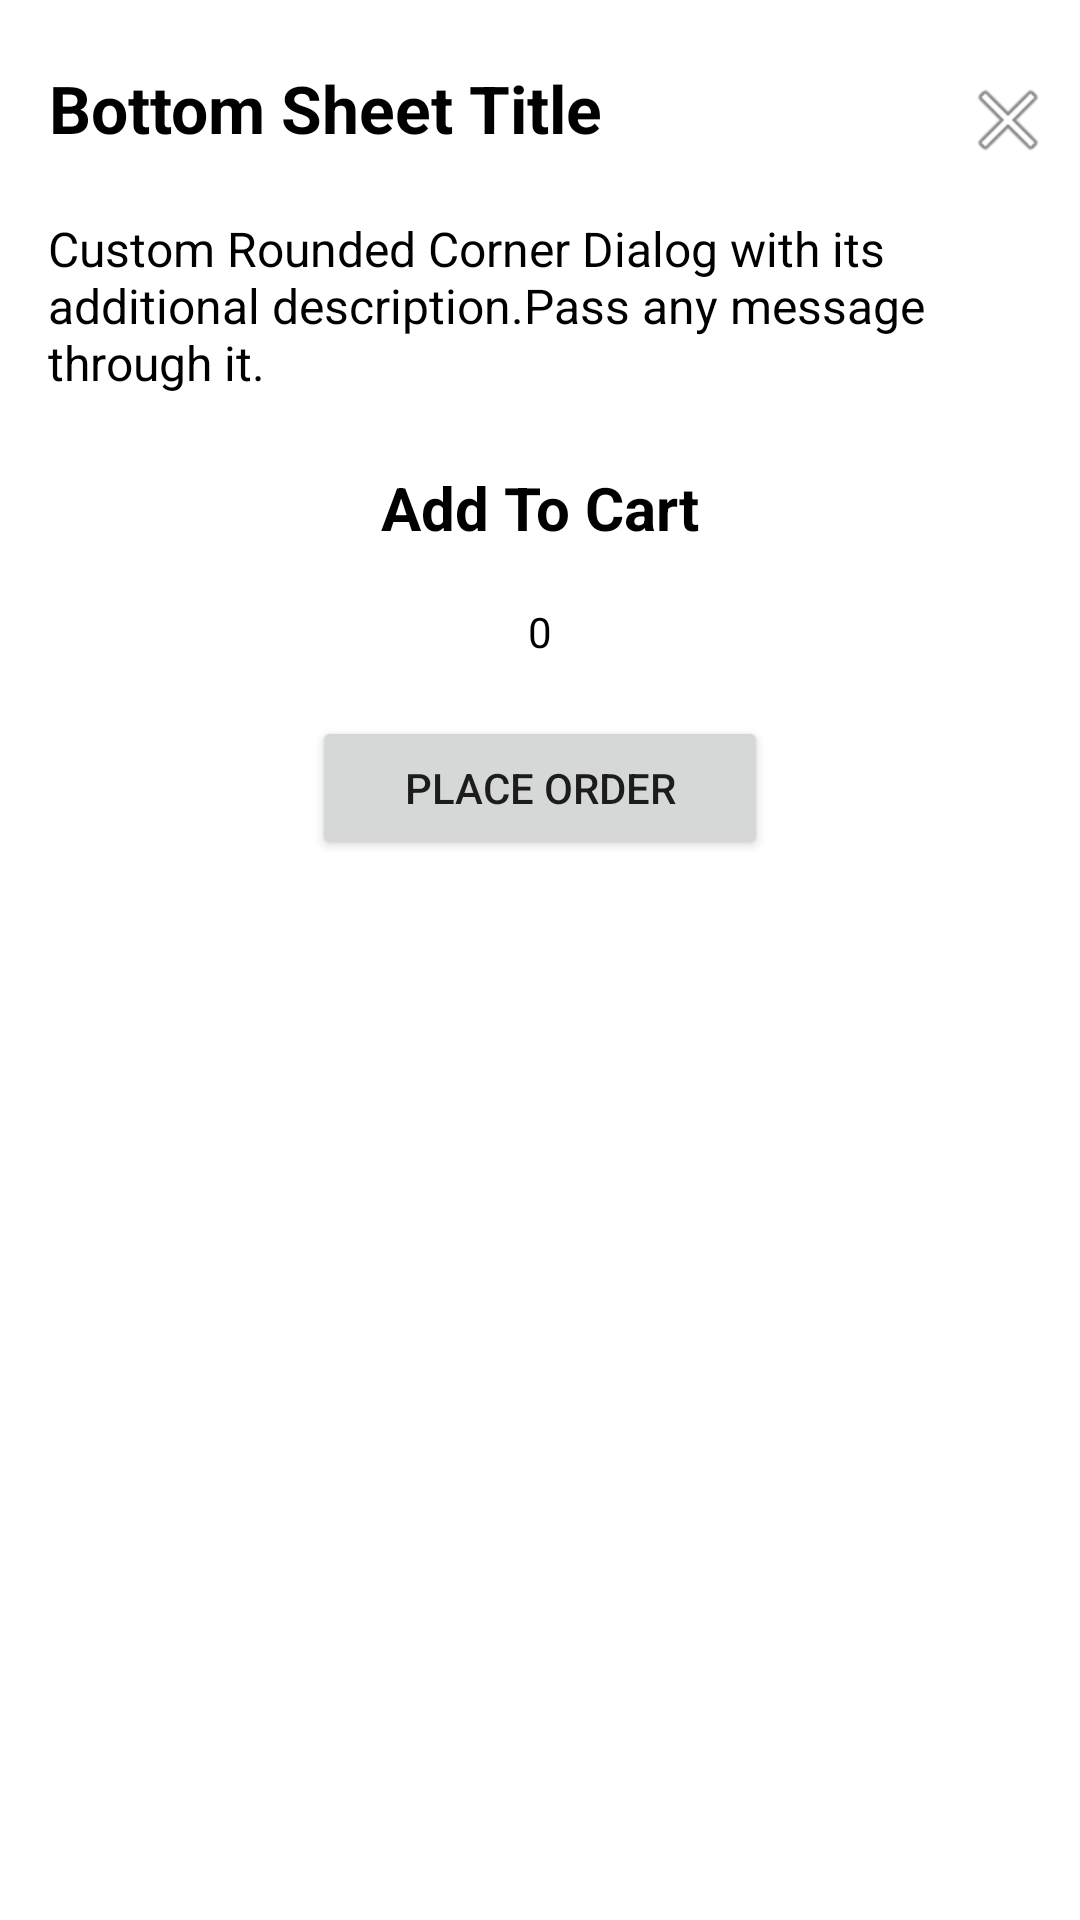

Icons on this 1080x1920 Android screen, each with its box as (x1, y1, x2, y2):
close clear cancel: (978, 90, 1038, 150)
